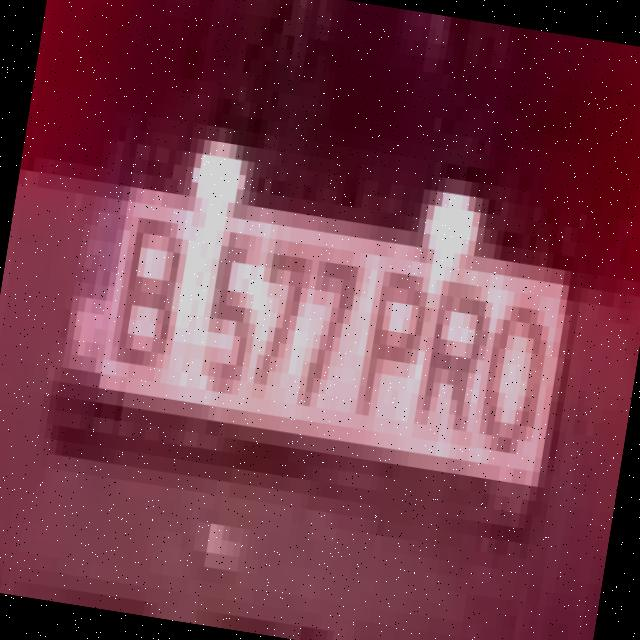Autre: (48, 142, 590, 514)
